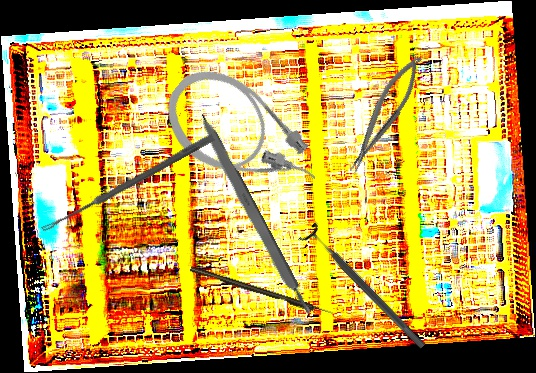Cannula: (148, 51, 335, 225)
Fixation Ring: (297, 220, 433, 357)
Hook Surgical: (189, 265, 334, 318)
Needle Holder: (337, 49, 432, 178)
Scalpel Handle: (193, 110, 314, 321)
Surgical Spoon: (40, 132, 216, 235)
